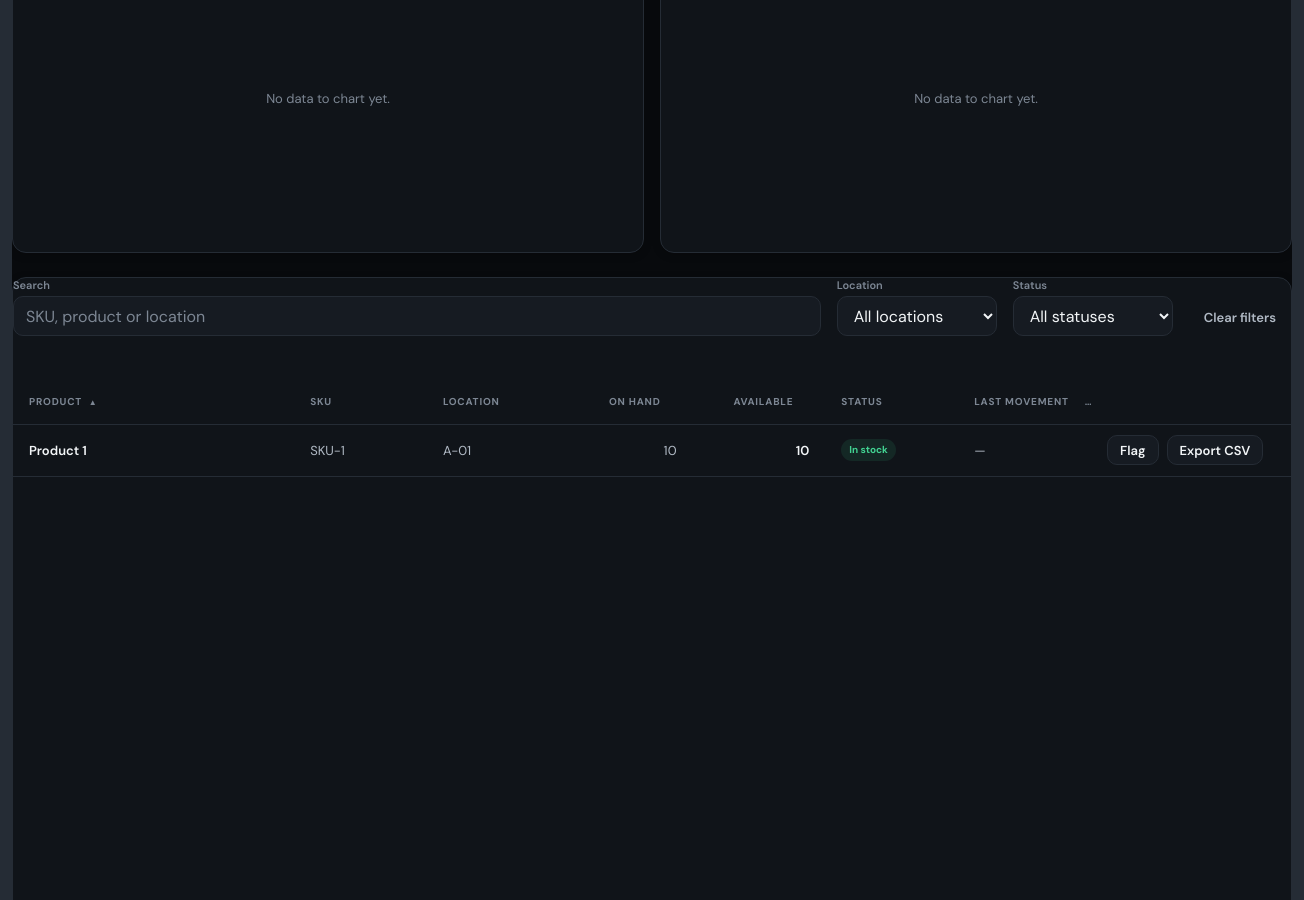
Test case: InventoryOverviewPage › Export CSV (movementsCsvExport flag) › says so when the export fails
(page scrolled)
expect the text "Product 1" is shown: met, box [29,442,87,459]
Click the button with aria-label "Export stock movements of SKU-1 as CSV" at x=1215, y=450, box [1166,435,1263,465]
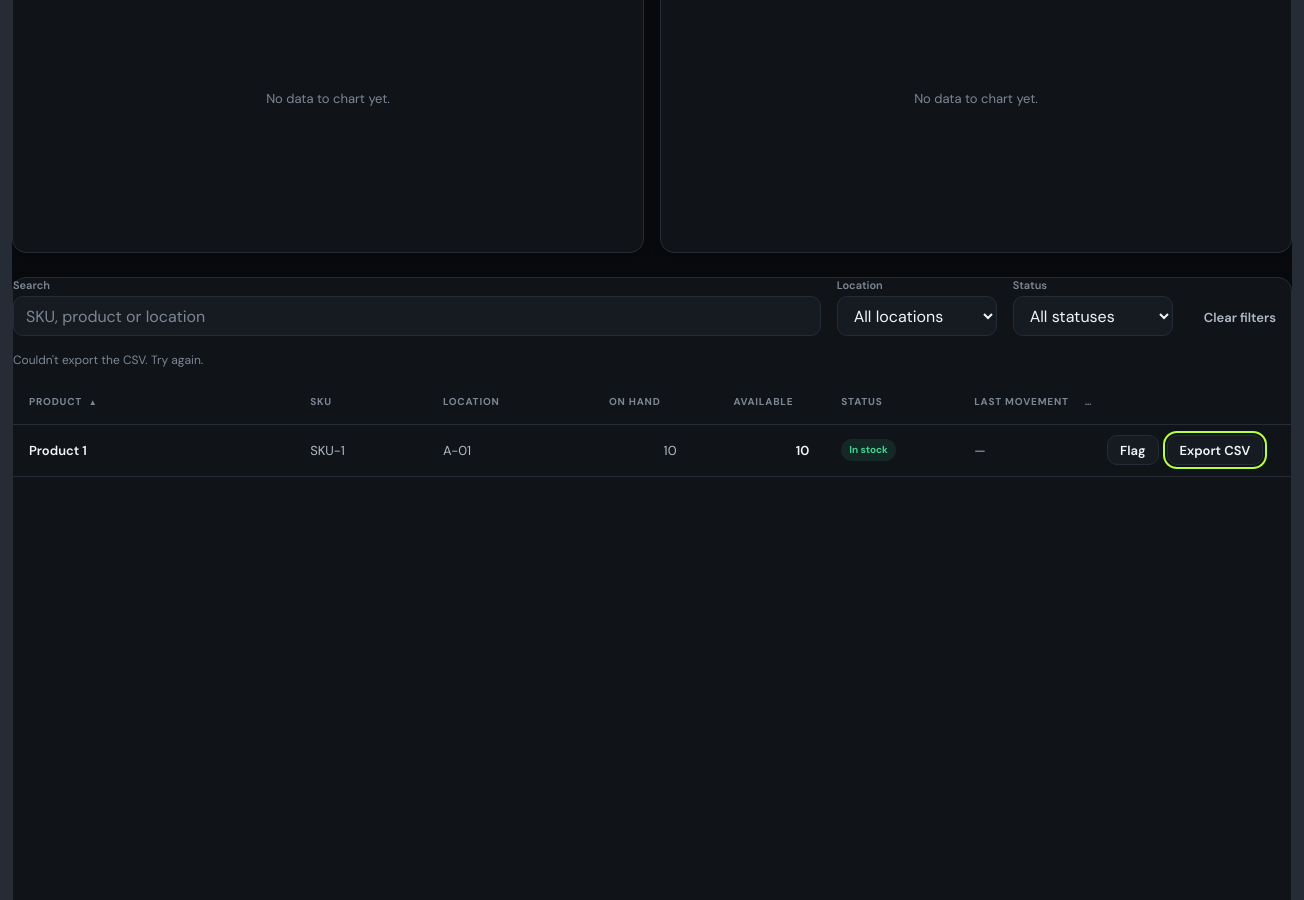
expect the text "Couldn't export the CSV. Try again." is shown: met, box [13,352,203,368]
